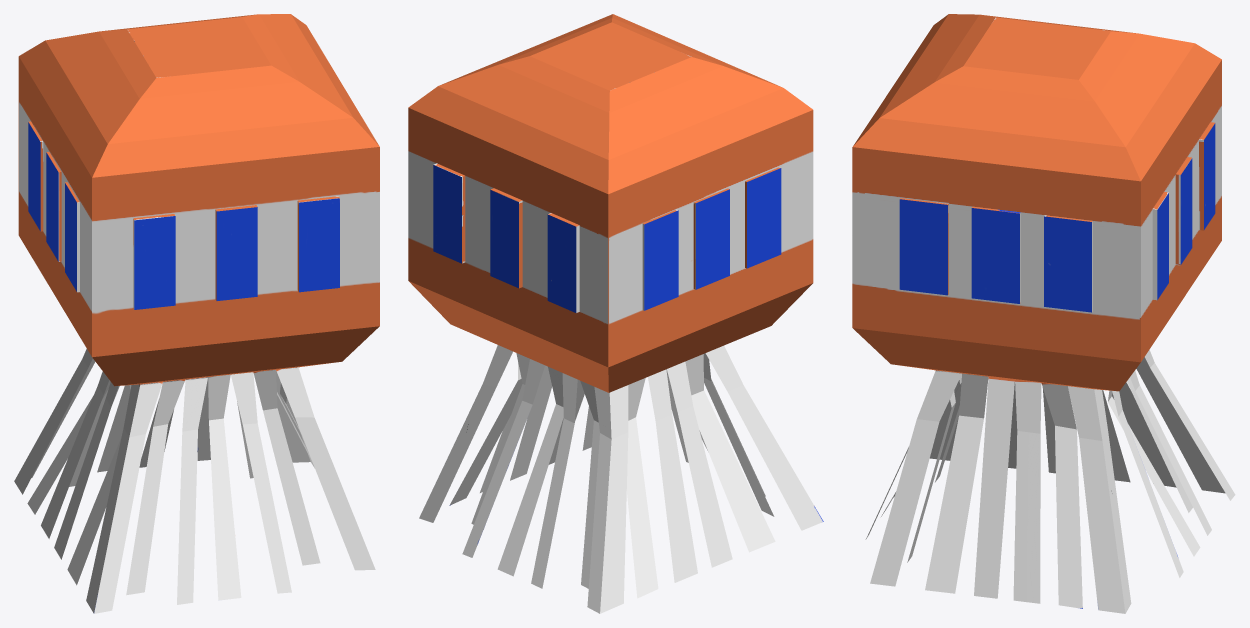
The model's file is AnimGasolina.fbx.
3 renders of one model, left to right at view 1: azimuth 30°, elevation 25°; view 2: azimuth 150°, elevation 25°; view 3: azimuth 270°, elevation 25°, orthographic. The views are drawn at different scales.
Visible parts, largest first — view 1: Gasolina; view 2: Gasolina; view 3: Gasolina.
Part boxes in pixels (x1=…): Gasolina: x1=14, y1=14, x2=379, y2=613; Gasolina: x1=408, y1=14, x2=823, y2=613; Gasolina: x1=852, y1=14, x2=1235, y2=613.
Bounding box in the file's own units: 250 × 360 × 256.
